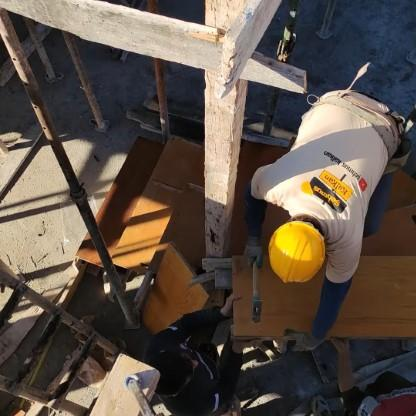helmet: (269, 214, 336, 293)
